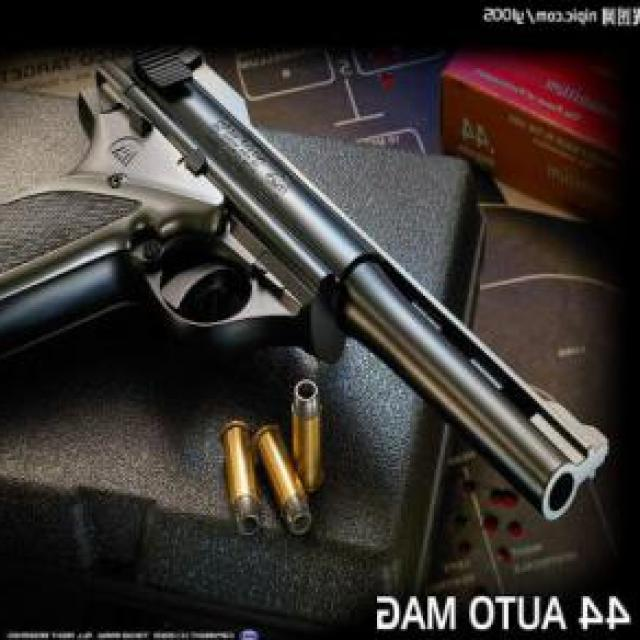pistol: (0, 55, 610, 524)
